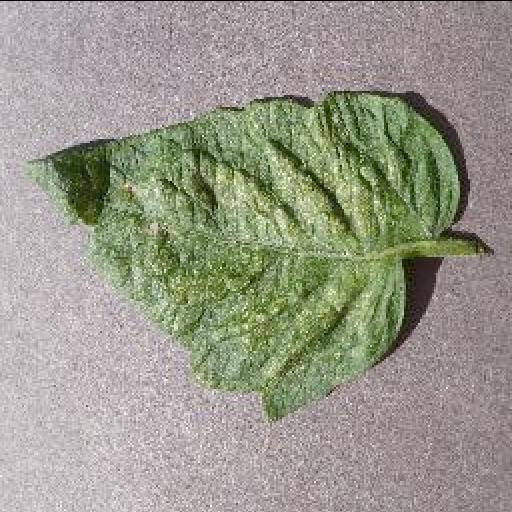disease_tomato: (23, 86, 461, 424)
